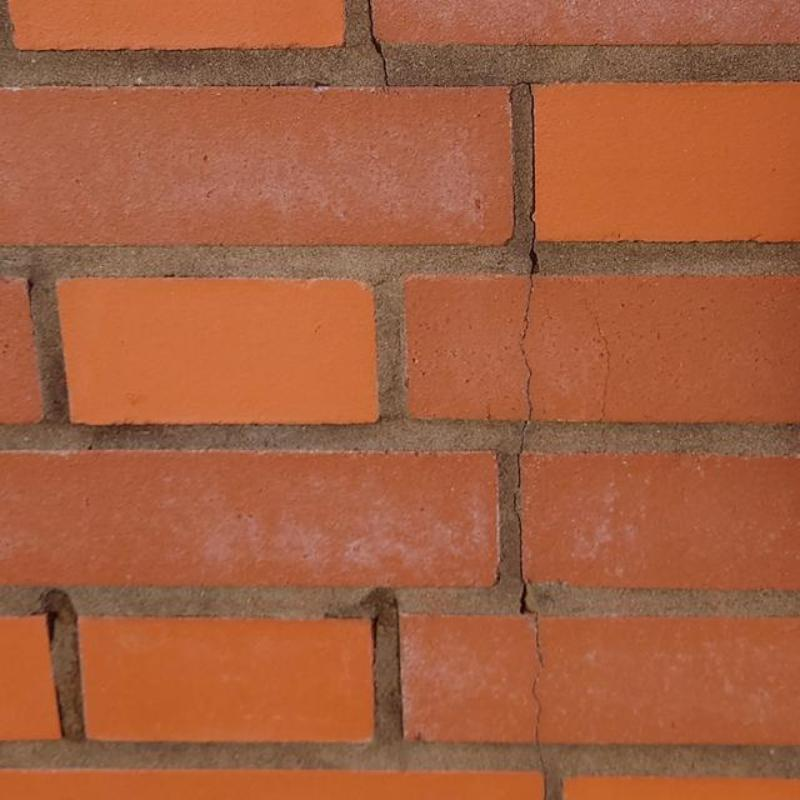crack: (511, 81, 546, 423), (583, 303, 611, 421), (512, 490, 538, 617), (531, 612, 548, 800), (367, 0, 390, 86), (516, 420, 528, 490)
